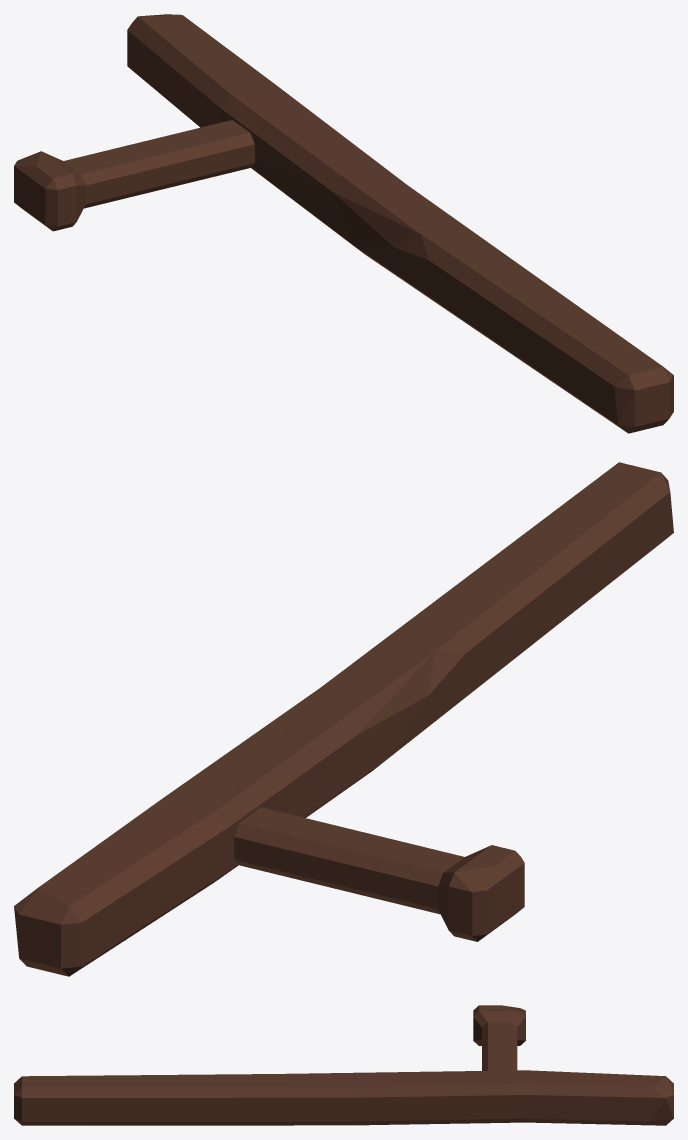
The model's file is Tonfa Asia.fbx.
3 renders of one model, top to bottom at view 1: azimuth 30°, elevation 25°; view 2: azimuth 150°, elevation 25°; view 3: azimuth 270°, elevation 25°, orthographic. The views are drawn at different scales.
Parts seen in each view (by area): view 1: Tonfa; view 2: Tonfa; view 3: Tonfa.
Part boxes in pixels (x1,y1,x2,y2): Tonfa: (14, 14, 673, 433); Tonfa: (14, 462, 673, 976); Tonfa: (14, 1005, 673, 1125).
Size of the model in its own units: 0.1648 by 0.0352 by 0.5114.
